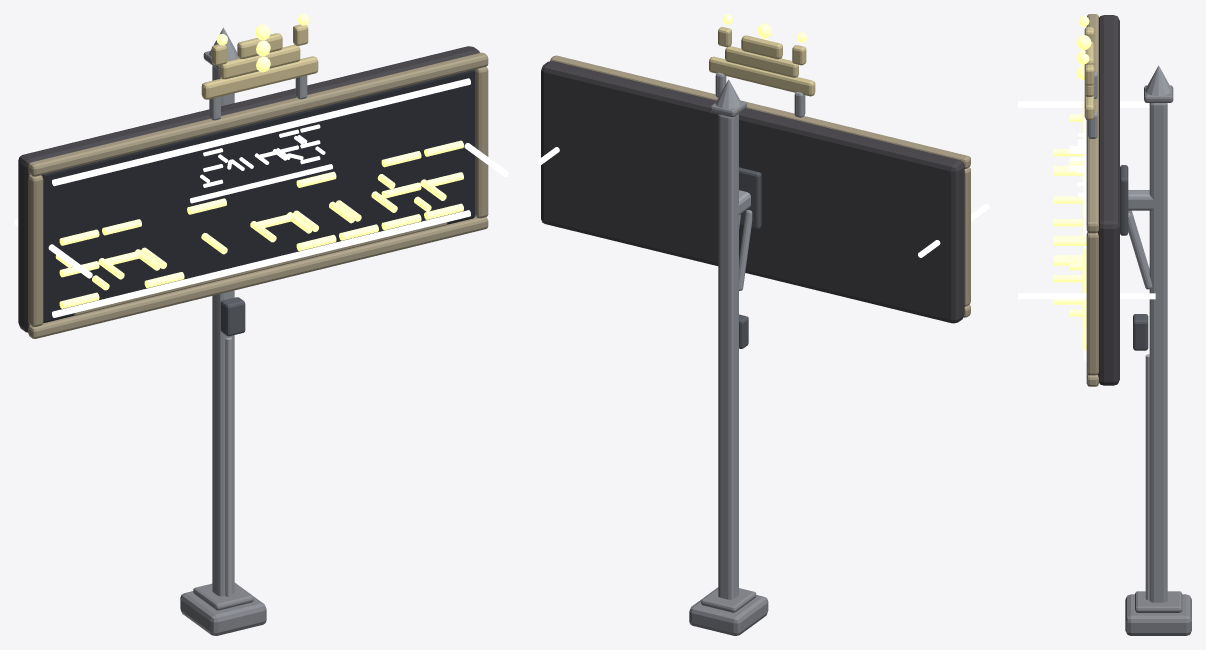
The model's file is sign_hotel.glb.
The picture shows the model from 3 angles, left to right: view 1: azimuth 30°, elevation 25°; view 2: azimuth 150°, elevation 25°; view 3: azimuth 270°, elevation 25°; orthographic projection. The views are drawn at different scales.
Parts seen in each view (by area): view 1: sign_hotel_face, sign_hotel_rail_top, sign_hotel_rail_bottom, sign_hotel_plate, sign_hotel_mast_0, sign_hotel_border_s0, sign_hotel_border_s2, sign_hotel_rail_l, sign_hotel_foot_0, sign_hotel_rail_r, sign_hotel_crest_tier0, sign_hotel_conduit (+5 smaller); view 2: sign_hotel_plate, sign_hotel_mast_0, sign_hotel_rail_top, sign_hotel_foot_0, sign_hotel_crest_tier0, sign_hotel_crest_tier1, sign_hotel_stiffener_0, sign_hotel_rail_l, sign_hotel_footplate_0, sign_hotel_crest_tier2; view 3: sign_hotel_mast_0, sign_hotel_plate, sign_hotel_foot_0, sign_hotel_rail_r, sign_hotel_rail_top, sign_hotel_conduit, sign_hotel_footplate_0, sign_hotel_border_s1, sign_hotel_border_s3, sign_hotel_stiffener_0, sign_hotel_brace_0b, sign_hotel_junction (+6 smaller).
Boxes of the visible parts, x1=… form: sign_hotel_face: x1=41, y1=69, x2=474, y2=322; sign_hotel_rail_top: x1=28, y1=52, x2=488, y2=176; sign_hotel_rail_bottom: x1=28, y1=216, x2=488, y2=338; sign_hotel_plate: x1=18, y1=46, x2=479, y2=332; sign_hotel_mast_0: x1=212, y1=65, x2=234, y2=596; sign_hotel_border_s0: x1=52, y1=210, x2=470, y2=317; sign_hotel_border_s2: x1=52, y1=78, x2=470, y2=186; sign_hotel_rail_l: x1=28, y1=174, x2=43, y2=326; sign_hotel_foot_0: x1=180, y1=583, x2=266, y2=635; sign_hotel_rail_r: x1=474, y1=66, x2=488, y2=218; sign_hotel_crest_tier0: x1=201, y1=56, x2=318, y2=99; sign_hotel_conduit: x1=225, y1=337, x2=231, y2=596; sign_hotel_plate: x1=541, y1=61, x2=964, y2=323; sign_hotel_mast_0: x1=718, y1=114, x2=738, y2=599; sign_hotel_rail_top: x1=550, y1=55, x2=970, y2=168; sign_hotel_foot_0: x1=689, y1=587, x2=768, y2=635; sign_hotel_crest_tier0: x1=709, y1=56, x2=815, y2=96; sign_hotel_crest_tier1: x1=725, y1=46, x2=798, y2=77; sign_hotel_stiffener_0: x1=739, y1=167, x2=761, y2=229; sign_hotel_rail_l: x1=964, y1=167, x2=970, y2=306; sign_hotel_footplate_0: x1=701, y1=588, x2=756, y2=612; sign_hotel_crest_tier2: x1=741, y1=35, x2=782, y2=59; sign_hotel_mast_0: x1=1149, y1=103, x2=1167, y2=602; sign_hotel_plate: x1=1097, y1=15, x2=1119, y2=385; sign_hotel_foot_0: x1=1125, y1=594, x2=1191, y2=635; sign_hotel_rail_r: x1=1086, y1=232, x2=1098, y2=375; sign_hotel_rail_top: x1=1086, y1=14, x2=1098, y2=233; sign_hotel_conduit: x1=1145, y1=354, x2=1149, y2=600; sign_hotel_footplate_0: x1=1135, y1=591, x2=1182, y2=612; sign_hotel_border_s1: x1=1018, y1=293, x2=1155, y2=299; sign_hotel_border_s3: x1=1018, y1=101, x2=1149, y2=107; sign_hotel_stiffener_0: x1=1120, y1=165, x2=1128, y2=235; sign_hotel_brace_0b: x1=1128, y1=212, x2=1152, y2=289; sign_hotel_junction: x1=1133, y1=314, x2=1148, y2=350.
Bounding box in the file's own units: 3.6 × 4.7 × 1.26.
